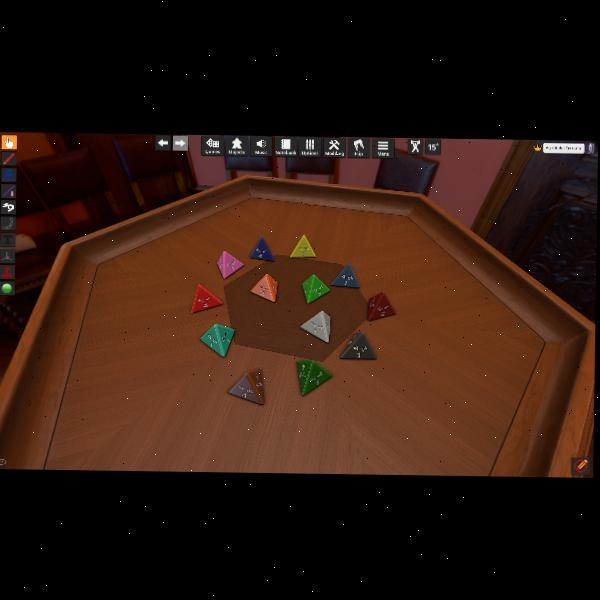d4: (228, 369, 265, 405), (296, 358, 331, 395), (200, 324, 234, 357), (340, 331, 376, 360), (301, 311, 331, 343), (191, 283, 222, 313), (302, 274, 330, 304), (251, 272, 279, 302), (368, 291, 395, 320), (217, 251, 243, 280), (330, 262, 358, 288), (249, 236, 276, 262), (291, 235, 316, 258)
